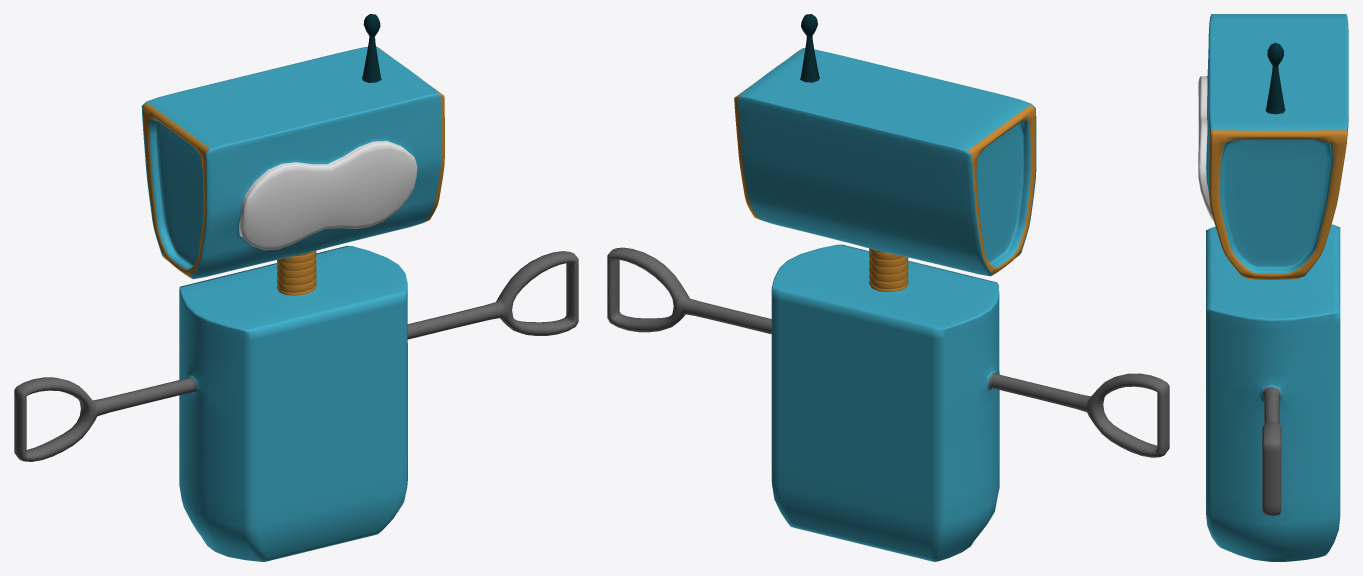
Rendered from John.fbx.
3 views of the same model, side by side, from view 1: azimuth 30°, elevation 25°; view 2: azimuth 150°, elevation 25°; view 3: azimuth 270°, elevation 25° (orthographic). The views are drawn at different scales.
Visible parts, largest first — view 1: Body4; view 2: Body4; view 3: Body4.
Boxes of the visible parts, bbox=[...] form: Body4: bbox=[14, 14, 578, 561]; Body4: bbox=[607, 14, 1169, 561]; Body4: bbox=[1198, 14, 1348, 561].
Bounding box in the file's own units: 8.04 × 6.83 × 1.8.
